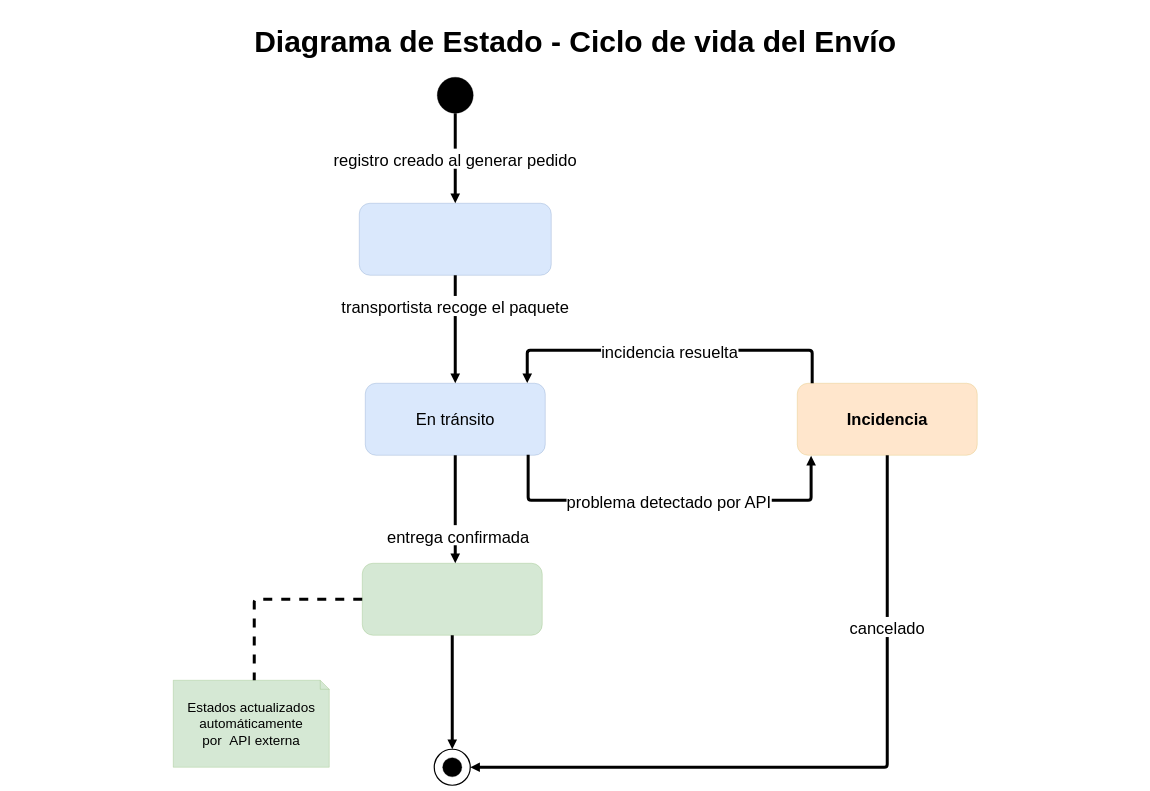
The diagram is 1150 pixels wide and 791 high, and some of its shapes have lost their labels. Here are the shapes that lost their labels. From the top down, the centre of each, then its label:
At (x=455, y=239): "Pendiente de recogida".
At (x=452, y=599): "Entregado".
